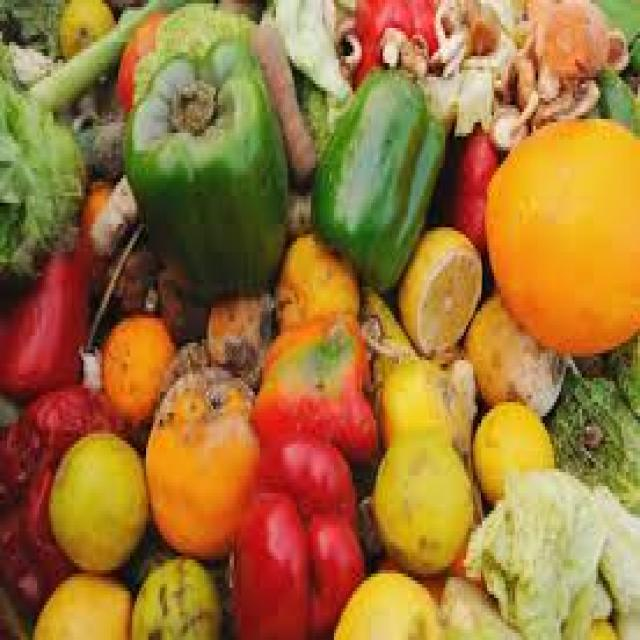organic waste: (121, 31, 285, 298), (482, 115, 638, 354), (0, 374, 121, 637), (308, 52, 443, 287), (228, 430, 366, 637), (463, 458, 608, 633), (144, 363, 257, 560), (0, 24, 83, 276), (246, 308, 373, 465), (0, 0, 192, 101), (368, 416, 471, 574), (0, 220, 90, 388), (46, 426, 146, 574), (441, 102, 522, 284), (550, 346, 638, 511), (461, 283, 566, 409), (262, 0, 350, 150), (424, 0, 523, 129), (392, 220, 480, 350), (374, 346, 476, 458), (510, 0, 598, 126), (253, 17, 313, 182), (100, 245, 197, 343), (468, 395, 552, 507), (533, 0, 626, 98), (77, 171, 146, 301), (269, 228, 359, 326), (586, 468, 638, 636), (100, 311, 176, 420), (127, 552, 225, 636), (334, 566, 443, 636), (352, 0, 447, 80), (202, 280, 274, 378), (28, 570, 130, 637), (448, 566, 524, 636), (153, 328, 213, 406), (114, 10, 162, 105), (360, 280, 408, 353), (593, 0, 637, 73), (158, 339, 206, 399), (70, 116, 120, 172), (56, 0, 111, 49), (596, 66, 638, 126), (489, 105, 529, 147), (570, 608, 622, 636), (285, 185, 311, 231)
